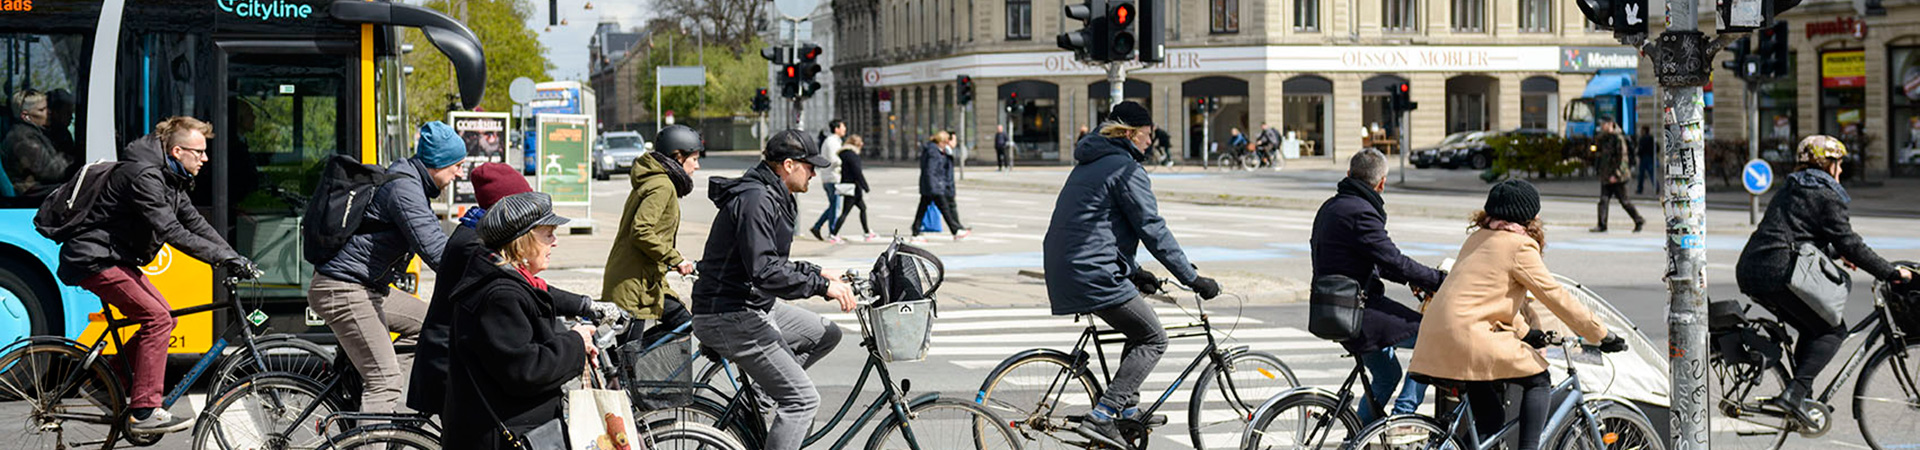commuter: (636, 133, 1018, 450), (969, 106, 1304, 450), (1, 116, 336, 430), (193, 121, 480, 444), (1363, 179, 1660, 450), (1700, 136, 1920, 450), (1244, 144, 1440, 450), (587, 133, 759, 423)
